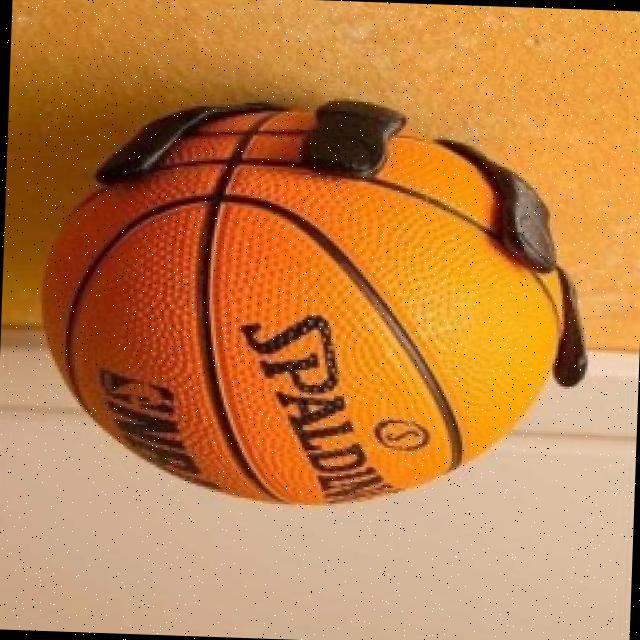ball: (24, 92, 584, 525)
